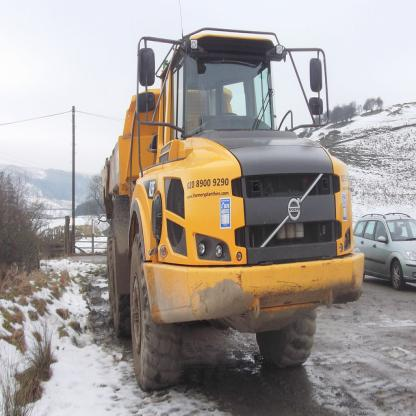dump_truck: (100, 22, 367, 381)
